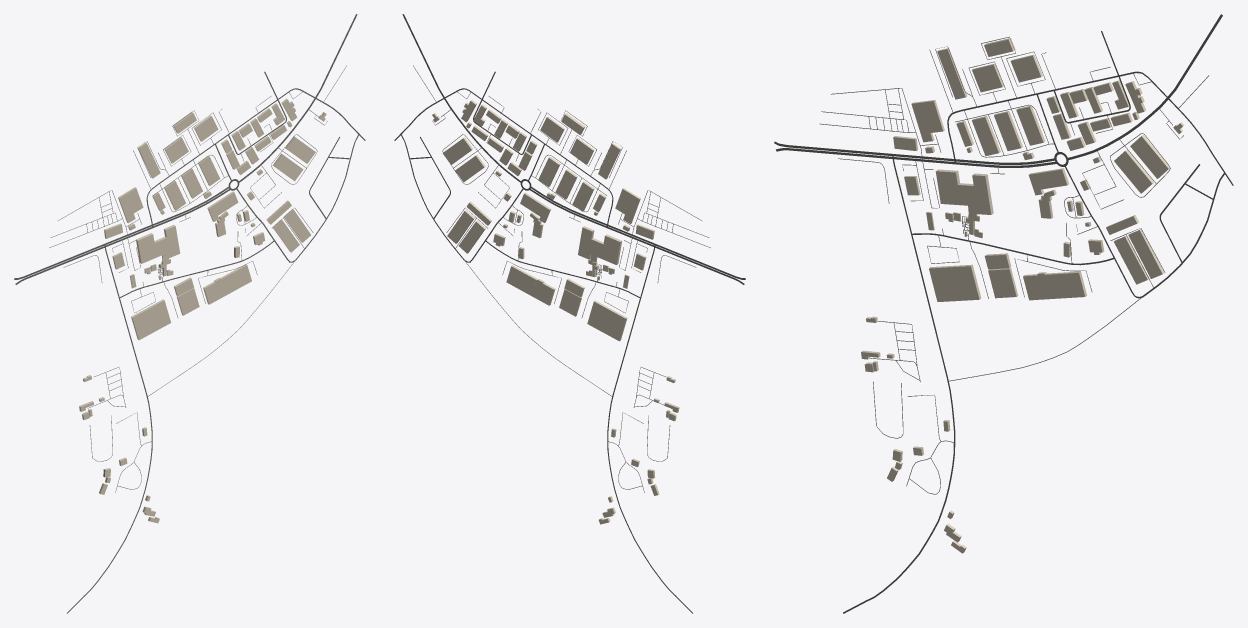
Rendered from historic-palestine-10_18_3520_3124.glb.
3 views of the same model, side by side, from view 1: azimuth 30°, elevation 25°; view 2: azimuth 150°, elevation 25°; view 3: azimuth 330°, elevation 25° (orthographic). The views are drawn at different scales.
Parts seen in each view (by area): view 1: Building_.034, Building_.029, Building_.033, Road הקודחים, Building_.050, Road התעשיה.001, Road התעשיה.002; view 2: Building_.034, Building_.029, Building_.033, Road הקודחים, Building_.050, Road התעשיה.001, Road התעשיה.002; view 3: Building_.034, Building_.029, Building_.033, Road הקודחים, Building_.050, Road התעשיה.001, Road התעשיה.002, Building_.027, Building_.032, Building_, Building_.001, Building_.035 (+7 smaller).
Boxes of the visible parts, x1,y1,x2,y2 form: Building_.034: (136,225,180,263); Building_.029: (131,299,171,340); Building_.033: (203,264,251,304); Road הקודחים: (67,244,152,613); Building_.050: (118,187,143,223); Road התעשיה.001: (15,189,230,284); Road התעשיה.002: (14,187,229,279); Building_.034: (578,226,621,264); Building_.029: (587,300,627,341); Building_.033: (506,265,555,305); Road הקודחים: (607,244,692,613); Building_.050: (615,188,640,223); Road התעשיה.001: (529,188,744,284); Road התעשיה.002: (531,187,745,279); Building_.034: (935,169,993,214); Building_.029: (929,264,981,301); Building_.033: (1023,271,1086,300); Road הקודחים: (843,156,955,613); Building_.050: (911,100,944,142); Road התעשיה.001: (776,148,1057,167); Road התעשיה.002: (774,141,1055,164); Building_.027: (1130,134,1170,178); Building_.032: (1114,149,1153,193); Building_: (1128,229,1164,278); Building_.001: (1113,235,1149,284); Building_.035: (1028,168,1069,195).
Bounding box in the file's own units: 1037 × 1492 × 10.5.
